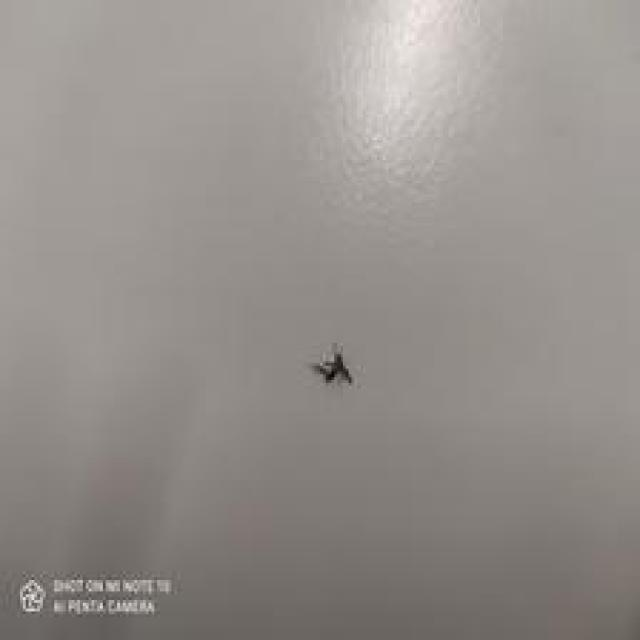Aedes albopictus: (312, 342, 354, 387)
